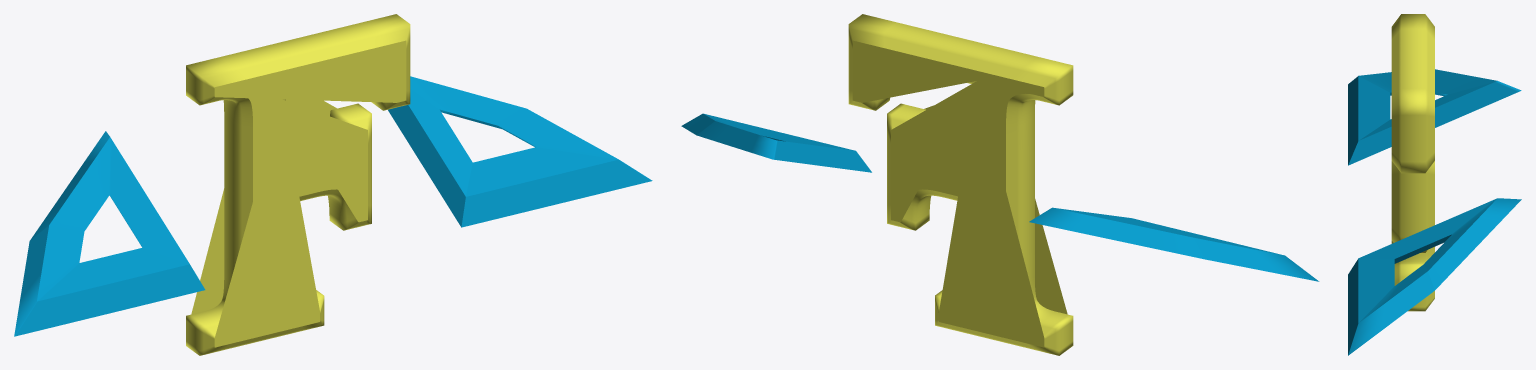
The model's file is flightSign_yellow_blue.fbx.
3 views of the same model, side by side, from view 1: azimuth 30°, elevation 25°; view 2: azimuth 150°, elevation 25°; view 3: azimuth 270°, elevation 25° (orthographic). The views are drawn at different scales.
Parts seen in each view (by area): view 1: polySurface1, nurbsToPoly1, nurbsToPoly2; view 2: polySurface1, nurbsToPoly1, nurbsToPoly2; view 3: polySurface1, nurbsToPoly2, nurbsToPoly1.
Boxes of the visible parts, box(x1,y1,x2,y2) form: polySurface1: box(186, 14, 410, 355); nurbsToPoly1: box(14, 131, 205, 336); nurbsToPoly2: box(388, 76, 652, 227); polySurface1: box(848, 14, 1073, 355); nurbsToPoly1: box(1029, 207, 1319, 281); nurbsToPoly2: box(681, 113, 871, 172); polySurface1: box(1391, 14, 1434, 311); nurbsToPoly2: box(1348, 198, 1521, 355); nurbsToPoly1: box(1348, 69, 1521, 165).
Bounding box in the file's own units: 6.67 × 2.8 × 1.81.
